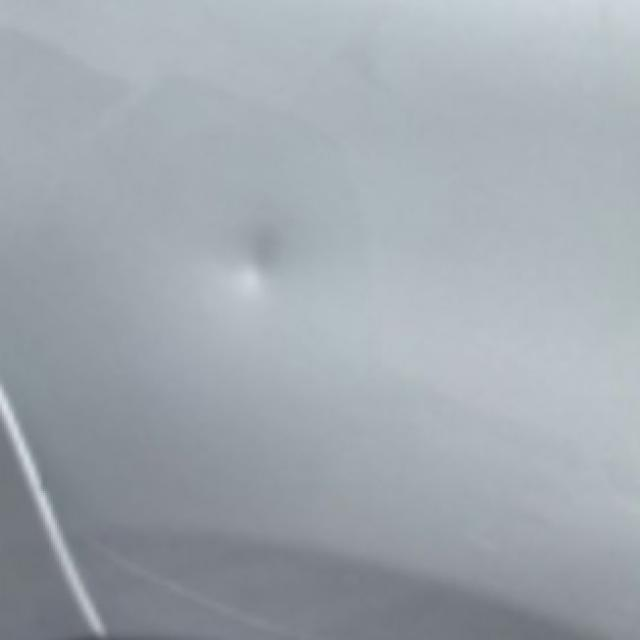dents: (213, 208, 320, 318)
